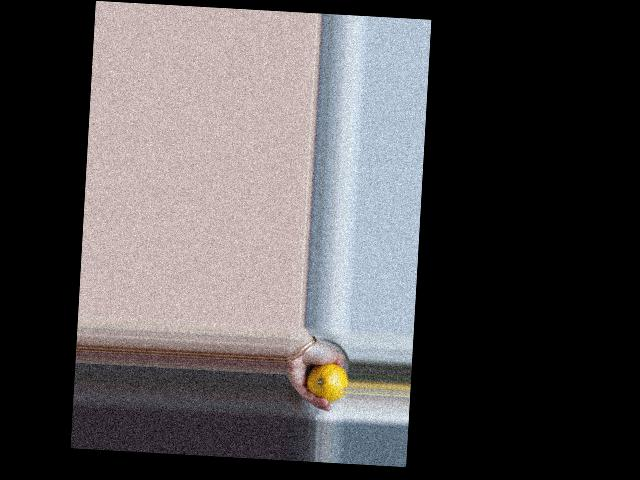lemon: (305, 364, 347, 402)
